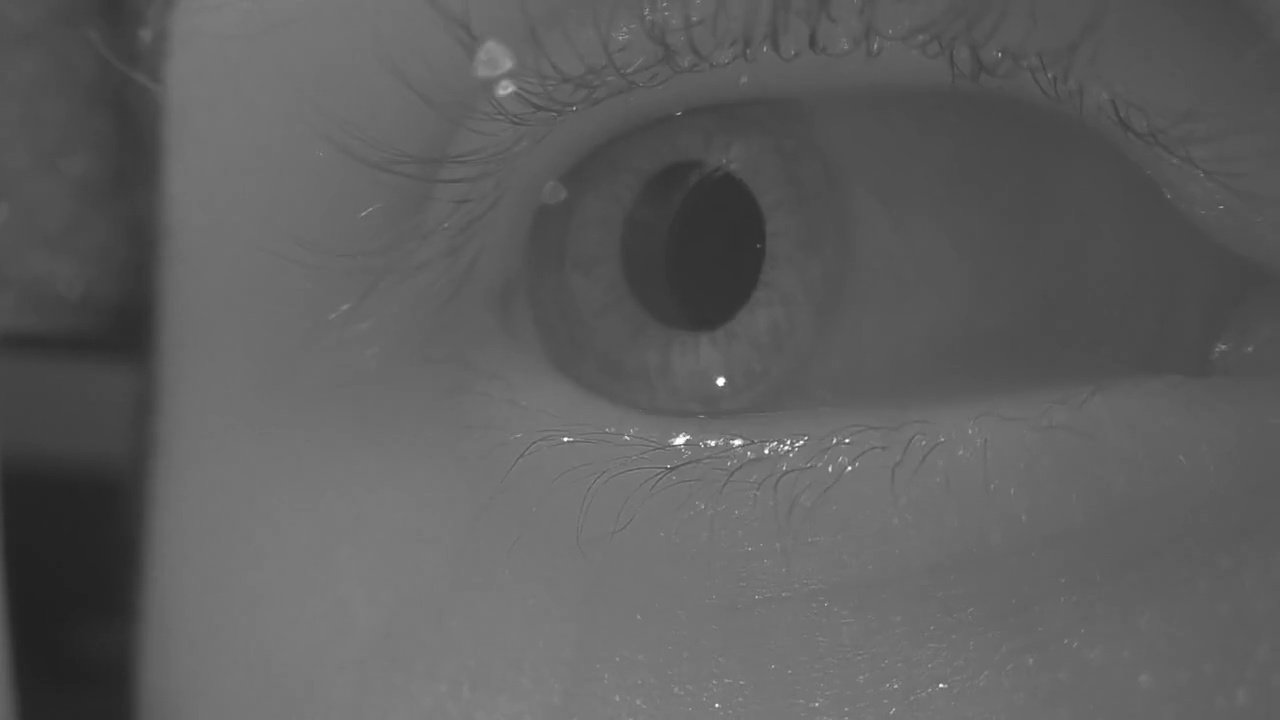pupil: (617, 162, 766, 334)
